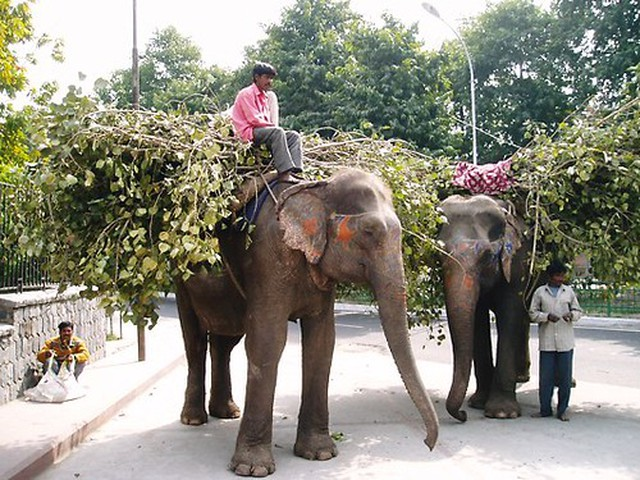Elephant: (169, 166, 441, 475), (441, 191, 531, 424)
Person: (235, 58, 312, 182), (529, 262, 583, 425), (37, 317, 91, 375)
